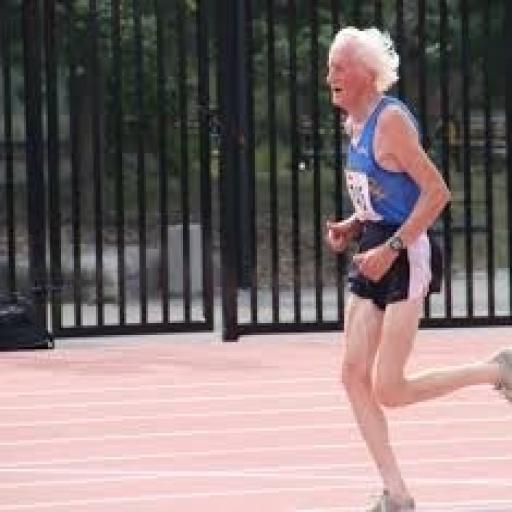running: (318, 24, 510, 510)
